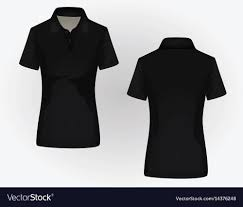S_polo shirt: (18, 5, 117, 155)
